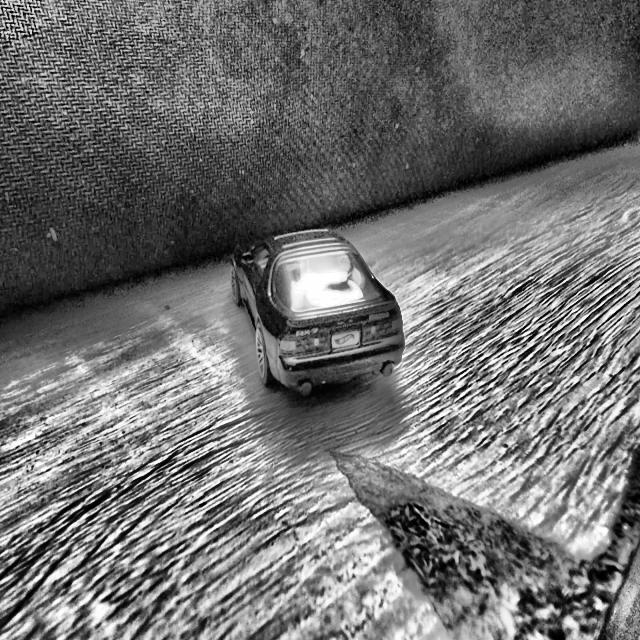car: (229, 227, 405, 398)
